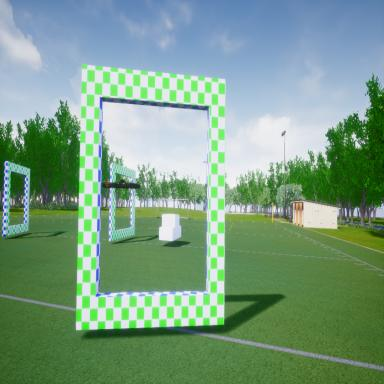gate: (73, 63, 228, 332)
